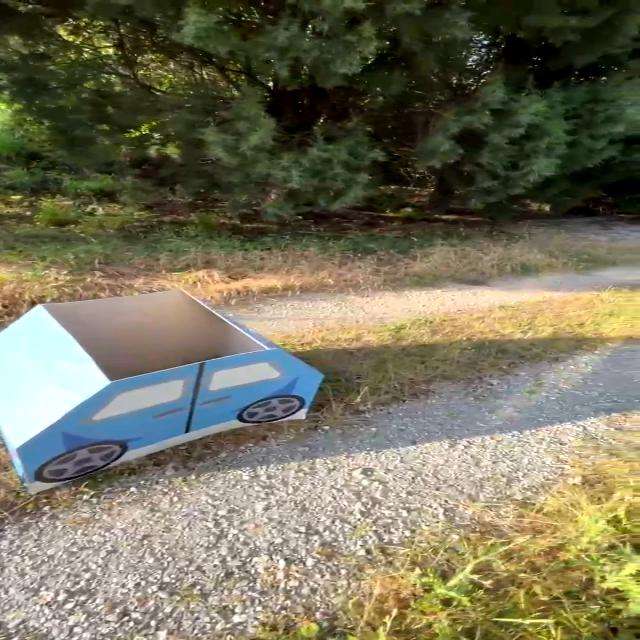blue_car: (0, 285, 348, 497)
